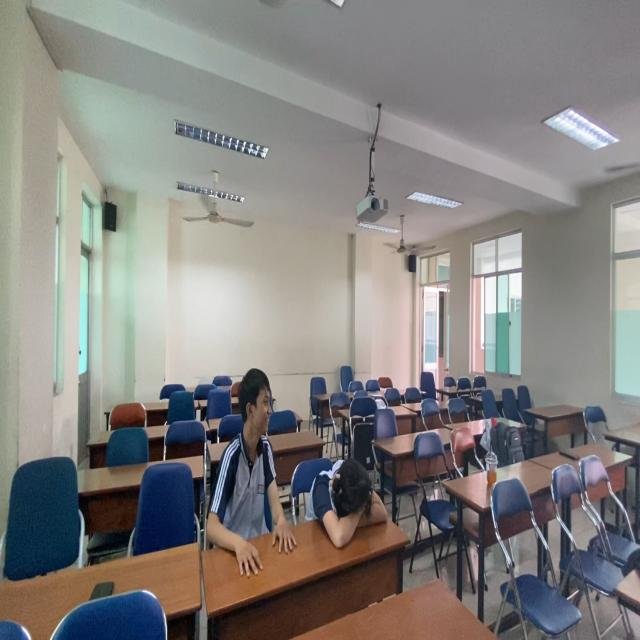sleep: (305, 451, 394, 550)
